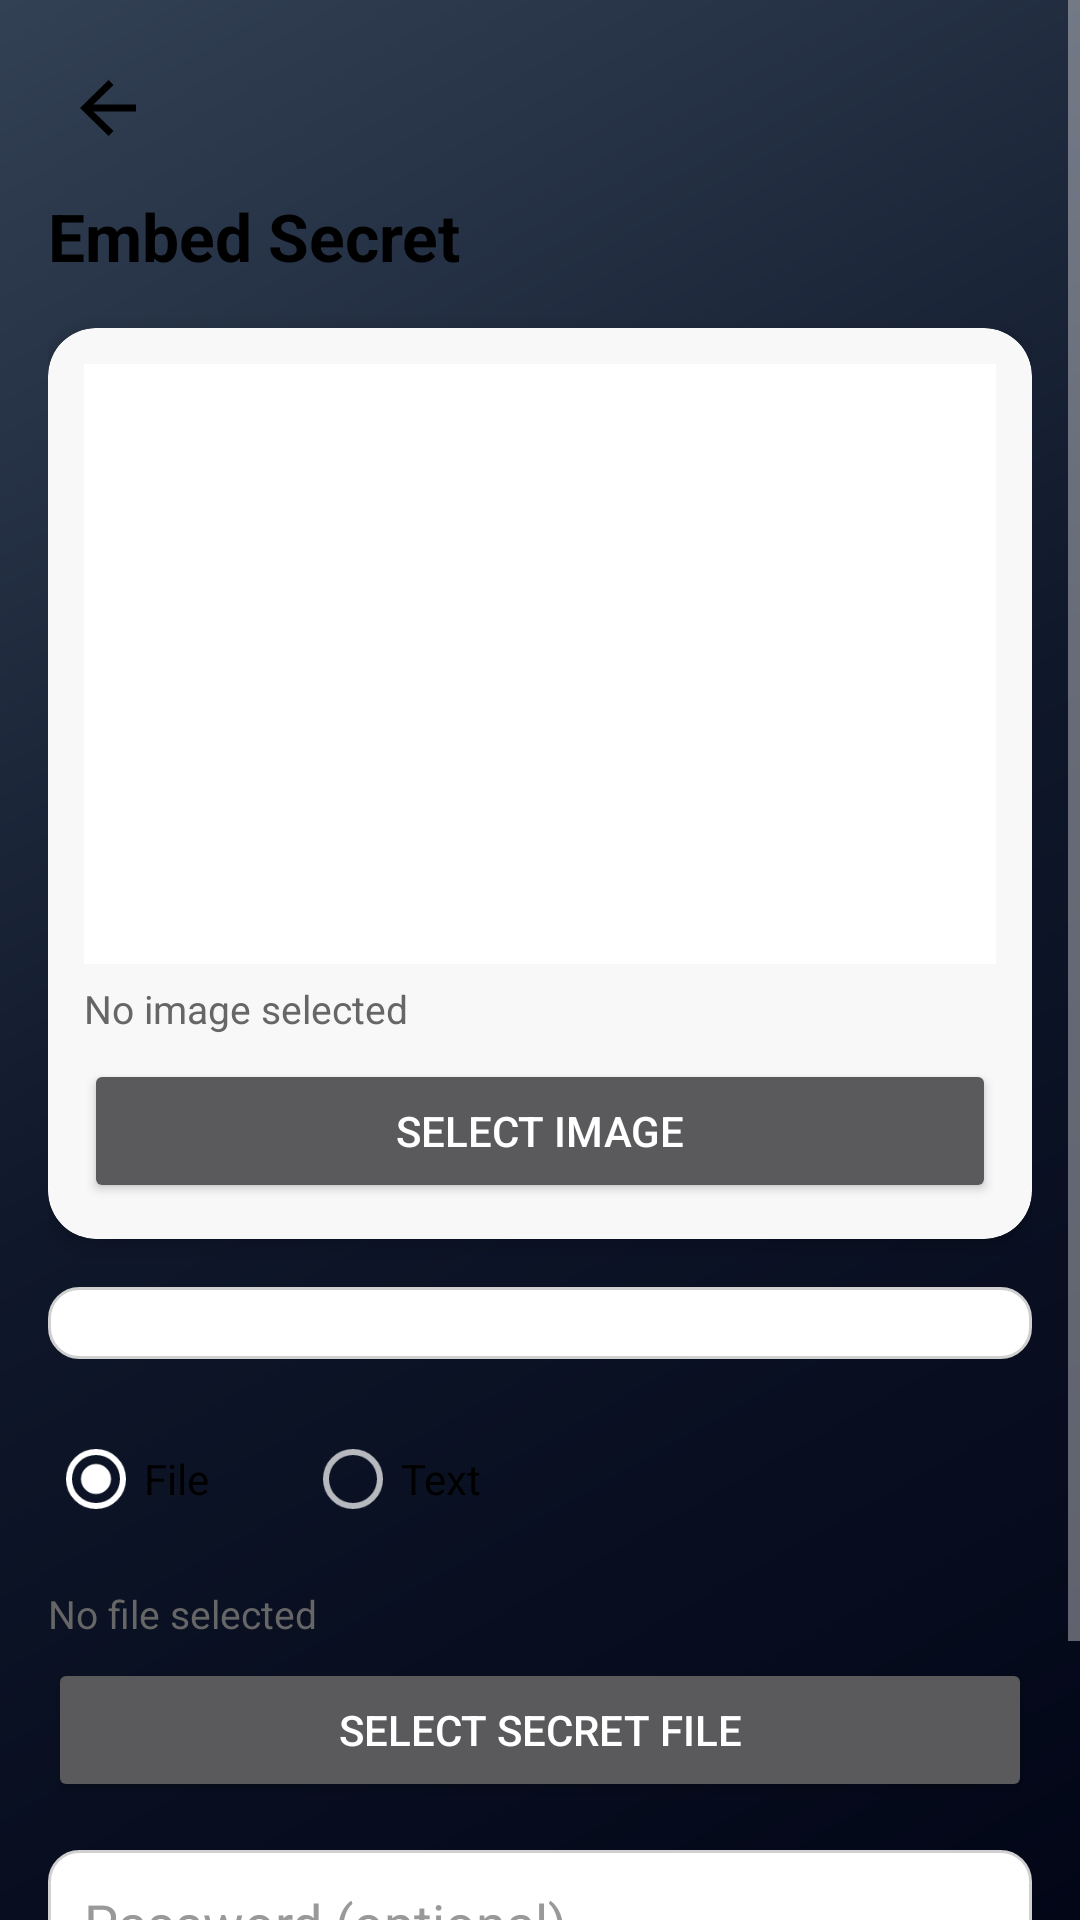

Icons on this 1080 x 1920 Android screen, each with the point to tap as [x,y]:
Back: [108,108]
